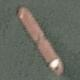ship: (0, 0, 25, 36)
